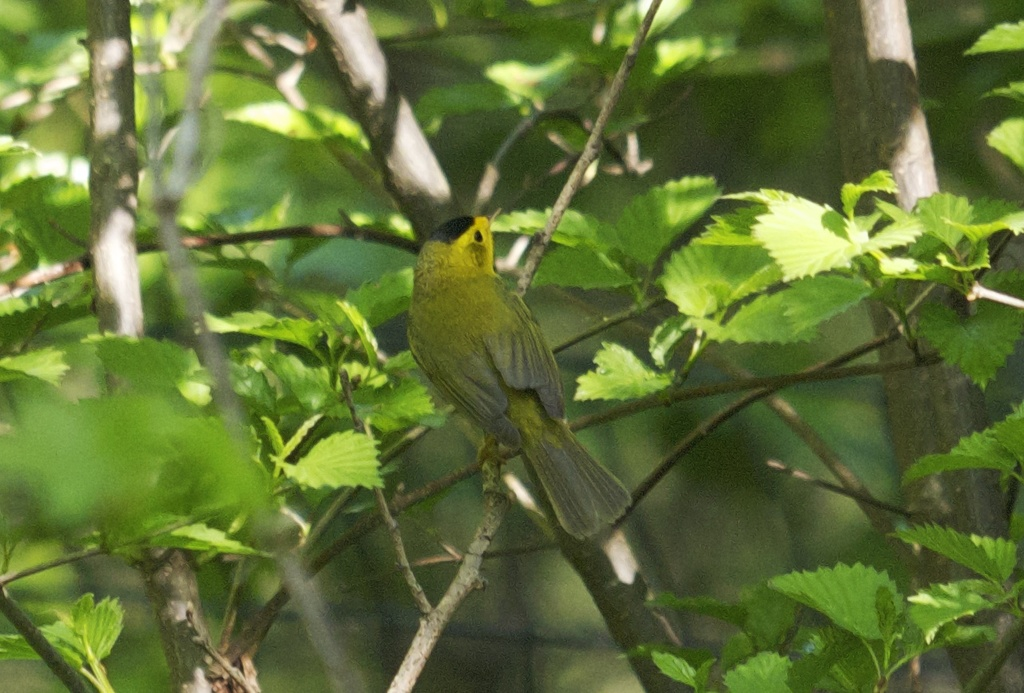Bird: (408, 209, 633, 541)
